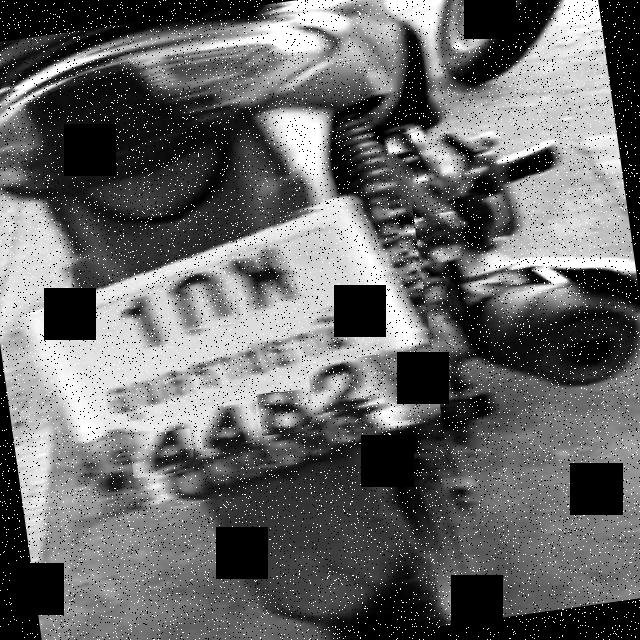letters: (164, 264, 240, 332), (308, 354, 388, 416), (224, 238, 298, 304), (128, 428, 196, 478), (197, 400, 260, 450), (257, 388, 312, 437), (120, 304, 170, 348)
license-plate: (37, 204, 440, 516)
province: (103, 304, 363, 424)
